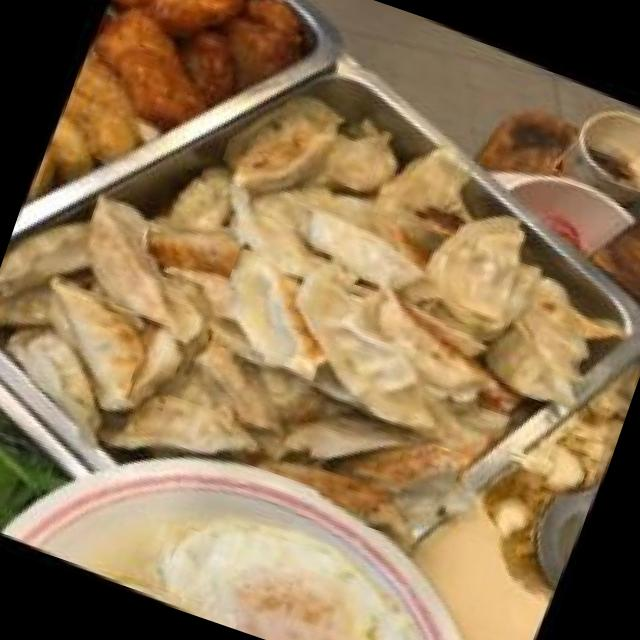fried_dumplings: (90, 107, 555, 550)
fried_eggs: (139, 480, 475, 640)
triangle_hash_brown: (84, 0, 312, 123)
